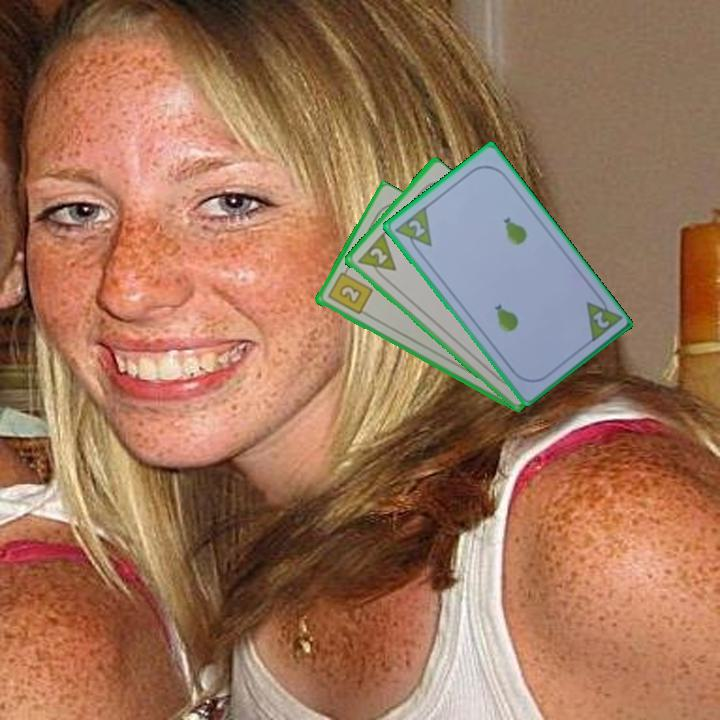2b: (324, 264, 375, 318)
2p: (390, 203, 435, 257), (588, 307, 612, 331), (366, 244, 390, 267)
